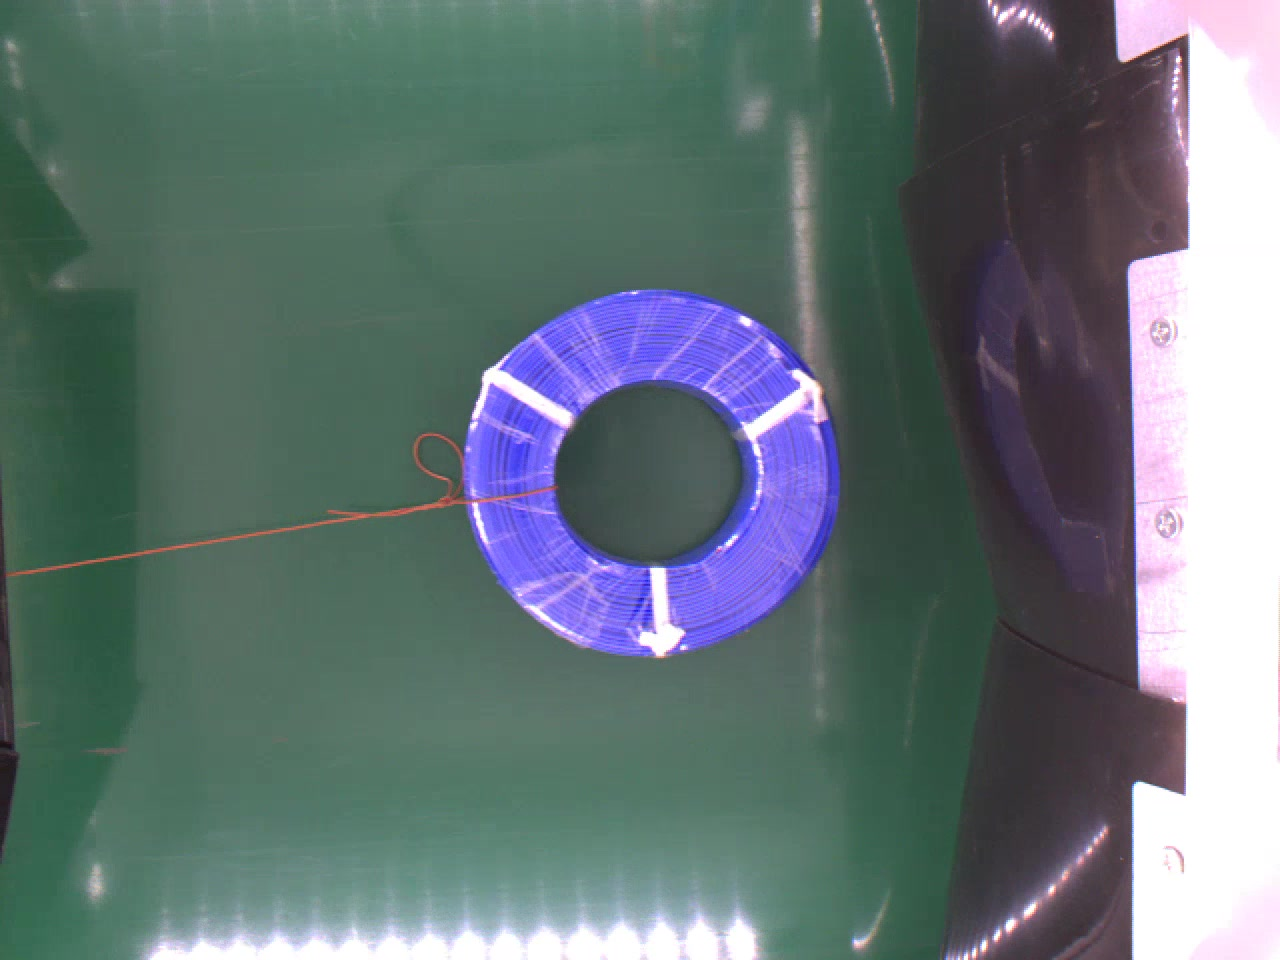blue: (460, 283, 838, 657)
